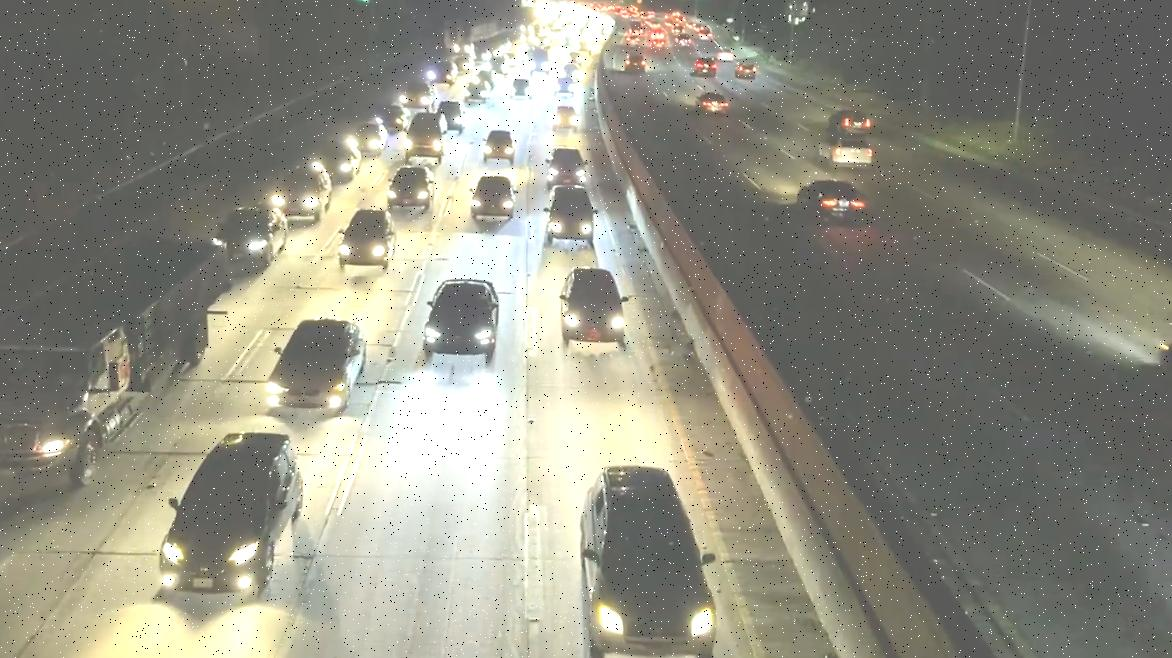car: (0, 237, 231, 484), (584, 463, 716, 658), (160, 433, 312, 598), (265, 320, 366, 410), (424, 275, 500, 358), (562, 265, 627, 341), (214, 205, 288, 263), (340, 209, 401, 269), (793, 181, 869, 229), (277, 166, 332, 223), (823, 112, 878, 165), (546, 185, 595, 242), (471, 175, 517, 221), (406, 113, 449, 160), (388, 165, 433, 207), (547, 146, 588, 183), (483, 130, 518, 160), (552, 105, 578, 132), (694, 93, 729, 113), (509, 79, 534, 99), (695, 57, 718, 76), (625, 54, 646, 72), (734, 63, 757, 78)
